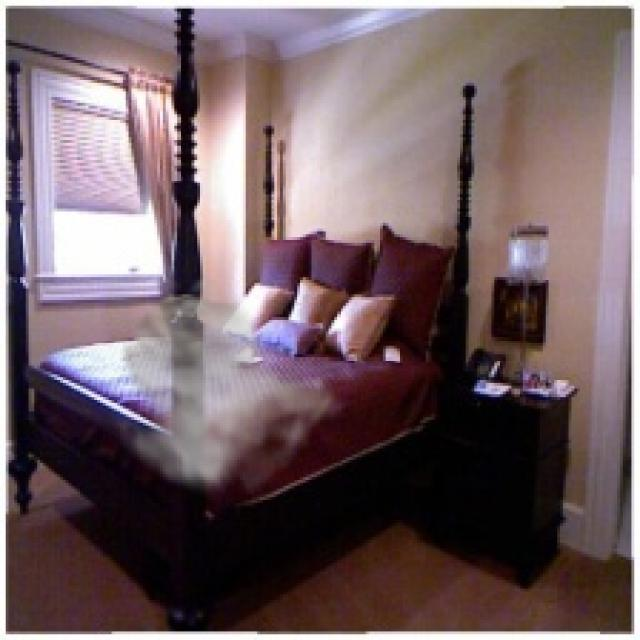smoke: (100, 274, 351, 500)
